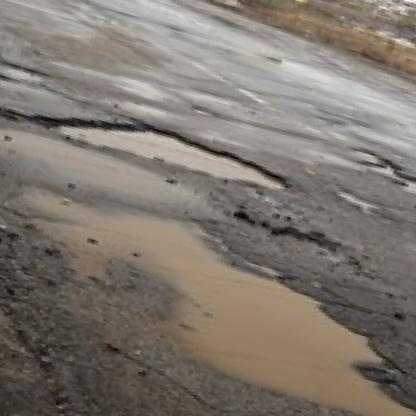pothole: (38, 95, 294, 199), (356, 151, 416, 206), (352, 145, 379, 161)
